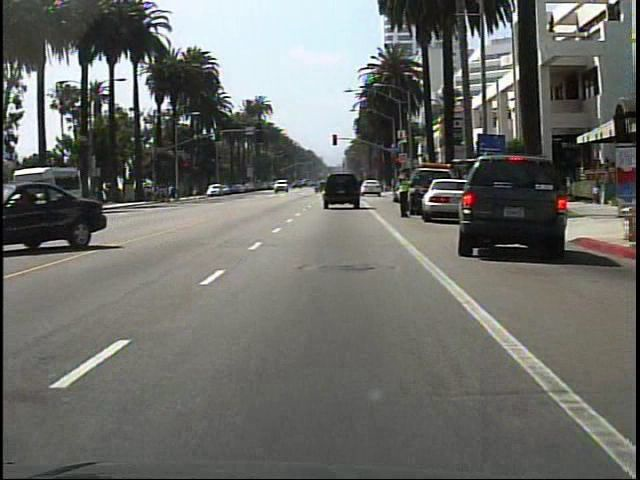person: (394, 167, 414, 219)
